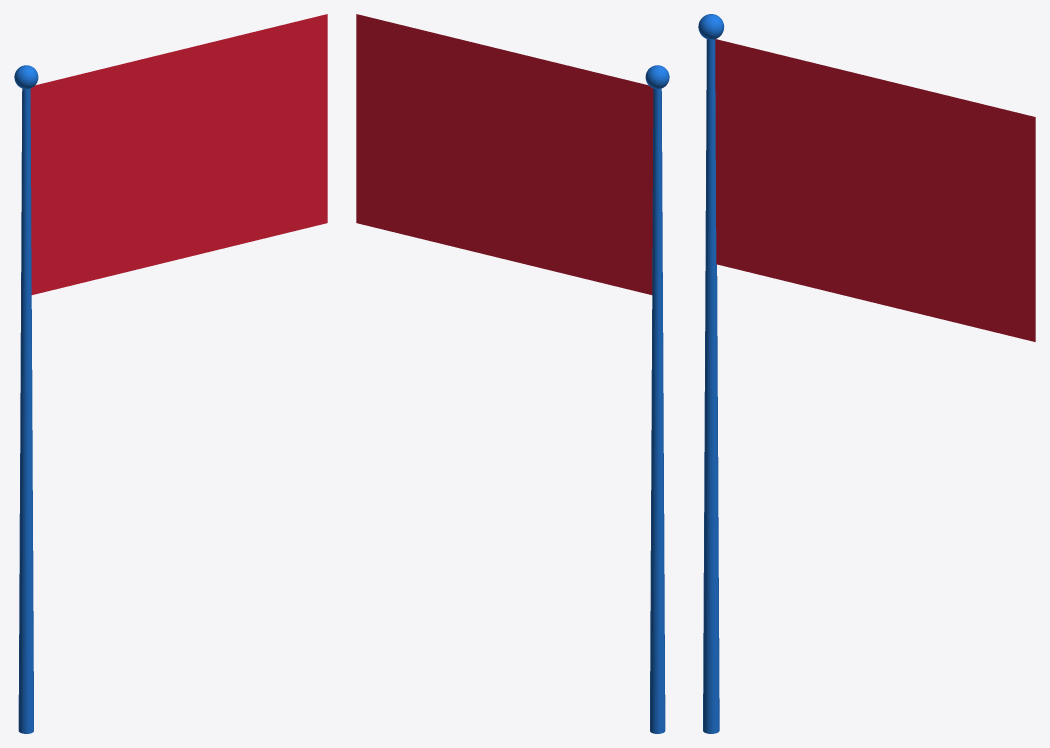
3 renders of one model, left to right at view 1: azimuth 30°, elevation 25°; view 2: azimuth 150°, elevation 25°; view 3: azimuth 330°, elevation 25°, orthographic. The views are drawn at different scales.
Visible parts, largest first — view 1: 平面, Flagpole; view 2: 平面, Flagpole; view 3: 平面, Flagpole.
Part boxes in pixels (x1,y1,x2,y2): 平面: (30,14,327,294); Flagpole: (14,65,38,733); 平面: (356,14,653,294); Flagpole: (645,65,669,733); 平面: (715,39,1035,341); Flagpole: (698,14,724,733).
Bounding box in the file's own units: 299 × 610 × 20.
